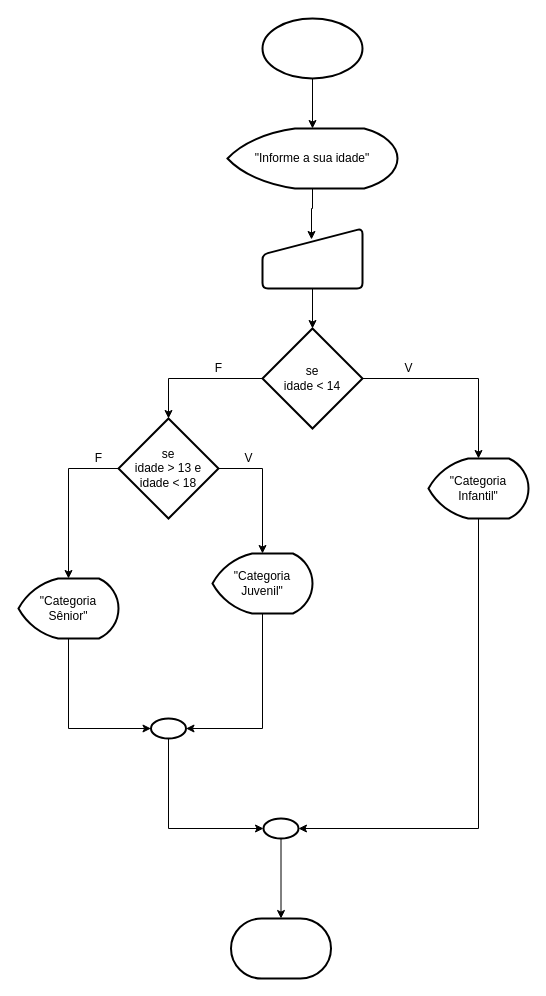
Image size: 546x996. Some labels were removed from this diagram. Here are the shapes that lost their labels. From the top down, the centre of each, then its label:
At pixel 312 48: "Inicio".
At pixel 312 258: "idade".
At pixel 281 948: "Fim".
